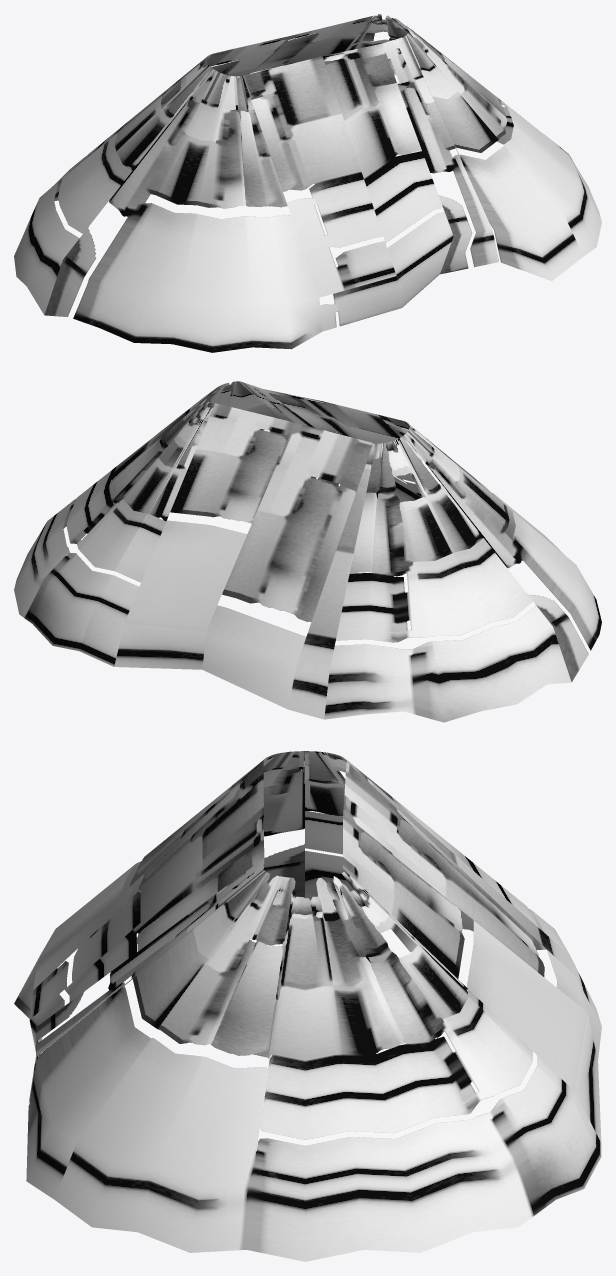
Rendered from roof_house_01_03.dae.
3 renders of one model, top to bottom at view 1: azimuth 30°, elevation 25°; view 2: azimuth 150°, elevation 25°; view 3: azimuth 270°, elevation 25°, orthographic. The views are drawn at different scales.
Parts seen in each view (by area): view 1: roof_house_01_03; view 2: roof_house_01_03; view 3: roof_house_01_03.
Boxes of the visible parts, left/top/right/bottom form: roof_house_01_03: left=14, top=14, right=601, bottom=352; roof_house_01_03: left=14, top=381, right=601, bottom=722; roof_house_01_03: left=14, top=751, right=601, bottom=1261.
Bounding box in the file's own units: 13.84 × 9.74 × 5.17.
1 material, 1 textured.
